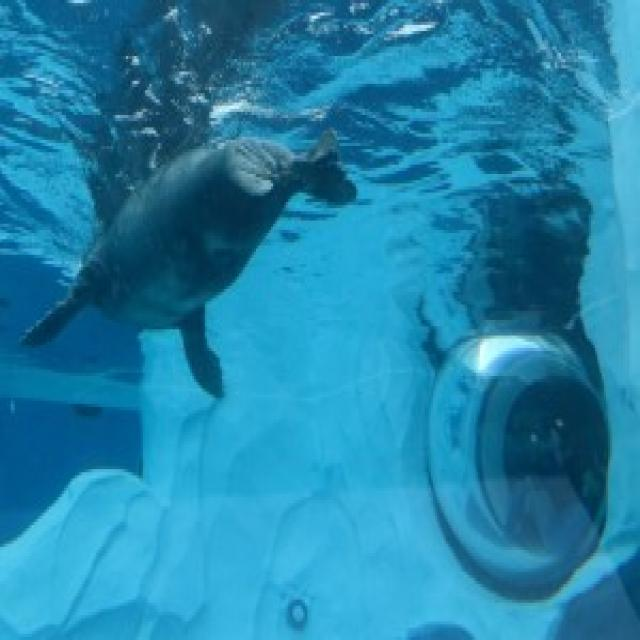Seal: (18, 111, 362, 412)
